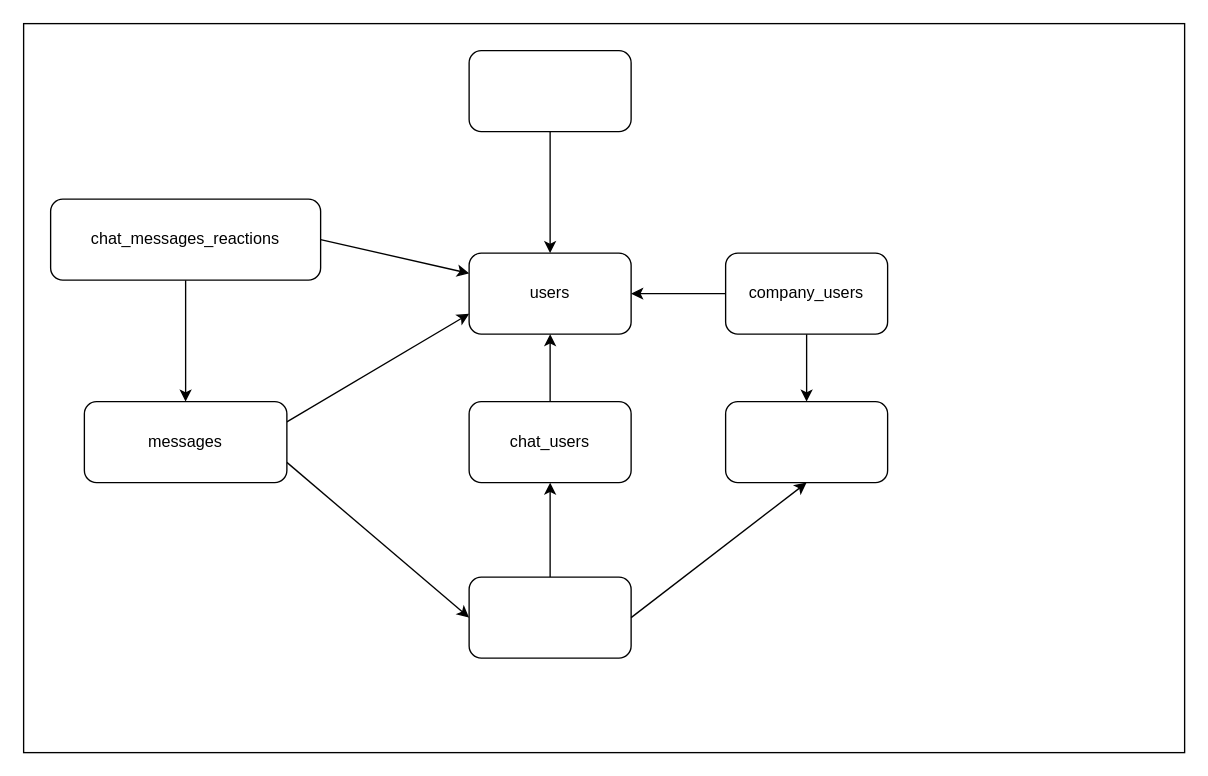
Image size: 1208x776. Some labels were removed from this diagram. The centre of each missing label's shape, as x and y in pixels:
"chats" goes at [549,617].
"companies" goes at [806,441].
"user_notifications" goes at [549,90].
